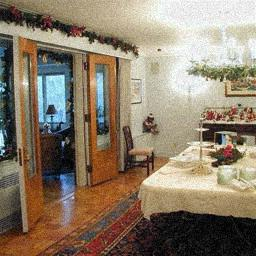Puerta: (17, 42, 41, 233), (85, 57, 115, 185)
